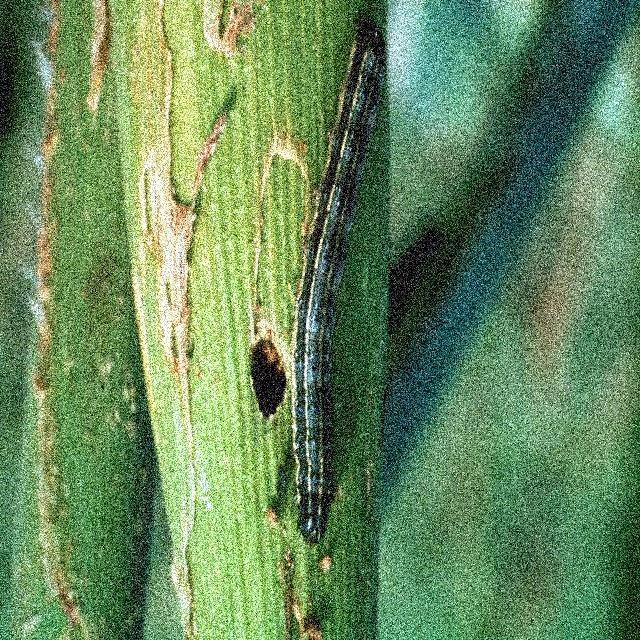gusano_cogollero: (282, 3, 390, 549)
